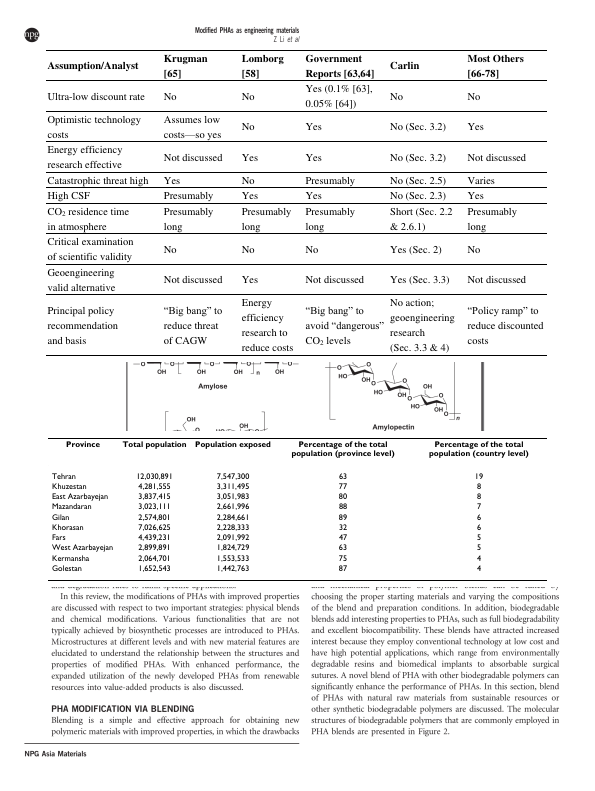borderless: (46, 48, 547, 355), (47, 436, 547, 580)
cell: (389, 296, 456, 355), (305, 302, 385, 348), (466, 302, 545, 347), (46, 304, 119, 347), (241, 296, 294, 355), (163, 302, 223, 347), (46, 113, 142, 141), (46, 235, 135, 264), (46, 205, 130, 233), (46, 143, 123, 172), (305, 51, 375, 80), (305, 82, 374, 111), (46, 266, 116, 294), (290, 441, 395, 459), (389, 205, 454, 233), (428, 441, 529, 459), (466, 51, 525, 80), (163, 113, 222, 142), (466, 205, 518, 233), (163, 205, 214, 233), (241, 205, 292, 233), (305, 205, 356, 233), (46, 174, 149, 187), (163, 51, 209, 80), (46, 59, 139, 73), (46, 90, 146, 103), (241, 51, 285, 80), (389, 273, 451, 287), (466, 273, 527, 287), (163, 273, 223, 287), (305, 273, 365, 287), (389, 120, 447, 134), (389, 189, 447, 203), (466, 151, 527, 164), (163, 151, 223, 164), (389, 151, 447, 164), (389, 174, 447, 187), (163, 189, 214, 203), (389, 243, 443, 256), (194, 441, 271, 450), (305, 174, 356, 187), (46, 189, 91, 203), (121, 441, 187, 450), (50, 544, 114, 553), (50, 493, 109, 502), (389, 59, 420, 73), (50, 554, 90, 564), (466, 174, 496, 187), (135, 472, 173, 482), (50, 503, 92, 512), (50, 482, 87, 492), (215, 472, 250, 482), (215, 482, 250, 492), (215, 513, 250, 523), (215, 523, 250, 533), (215, 554, 250, 564), (215, 564, 250, 574), (137, 482, 171, 492), (137, 513, 171, 523), (50, 523, 84, 533), (137, 523, 171, 533), (137, 554, 171, 564), (137, 564, 171, 574), (50, 564, 82, 574), (65, 441, 100, 450), (215, 493, 250, 502), (215, 503, 250, 512), (215, 534, 250, 543), (215, 544, 250, 553), (137, 493, 171, 502), (137, 503, 171, 512), (137, 534, 171, 543), (137, 544, 171, 553), (466, 120, 485, 134), (466, 189, 485, 203), (50, 472, 76, 482), (305, 120, 323, 134), (241, 189, 259, 203), (305, 189, 323, 203), (241, 273, 259, 287), (241, 151, 259, 164), (305, 151, 323, 164), (163, 174, 181, 187), (241, 120, 256, 134), (50, 513, 70, 523), (163, 90, 178, 103), (241, 90, 256, 103), (389, 90, 404, 103), (466, 90, 481, 103), (241, 174, 256, 187), (163, 243, 178, 256), (241, 243, 256, 256), (466, 243, 481, 256), (305, 243, 319, 256), (50, 534, 66, 543), (337, 472, 348, 482), (473, 472, 484, 482), (337, 482, 348, 492), (337, 513, 348, 523), (337, 523, 348, 533), (337, 554, 348, 564), (337, 564, 348, 574), (337, 493, 348, 502), (337, 503, 348, 512), (337, 534, 348, 543), (337, 544, 348, 553), (475, 523, 482, 533), (475, 564, 482, 574), (475, 493, 482, 502), (475, 503, 482, 512), (475, 534, 482, 543), (475, 544, 482, 553), (475, 482, 481, 492), (475, 513, 481, 523), (475, 554, 481, 564)
